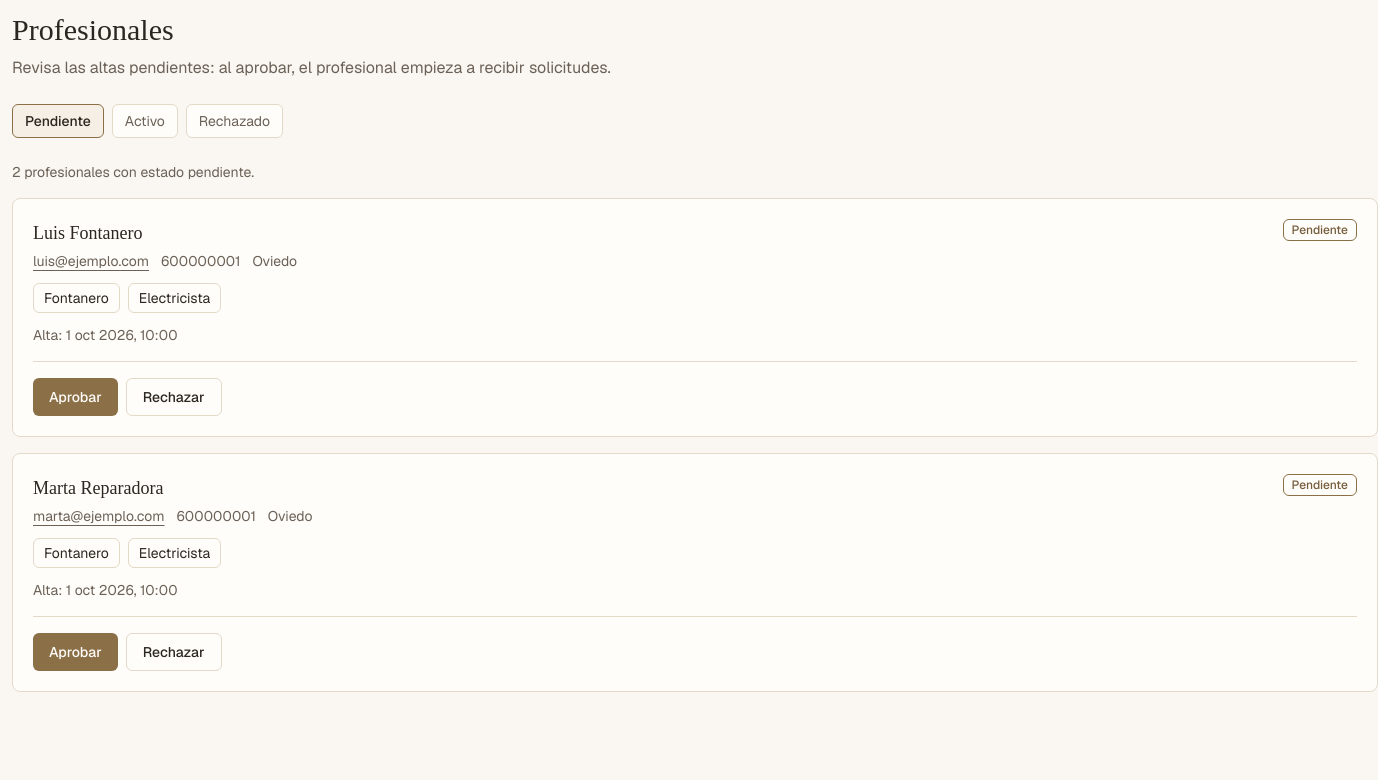
Test: PanelProfesionales › al_moderar_con_exito_la_fila_abandona_la_pestana_y_el_contador_no_la_cuenta
Expected: the heading "Luis Fontanero" is shown, top-left (33, 223), bottom-right (142, 243)
Expected: the text "2 profesionales con estado pendiente." is shown, top-left (12, 163), bottom-right (254, 181)
Click the button "Aprobar" below "Luis Fontanero" at (75, 397), box top-left (33, 378), bottom-right (118, 416)
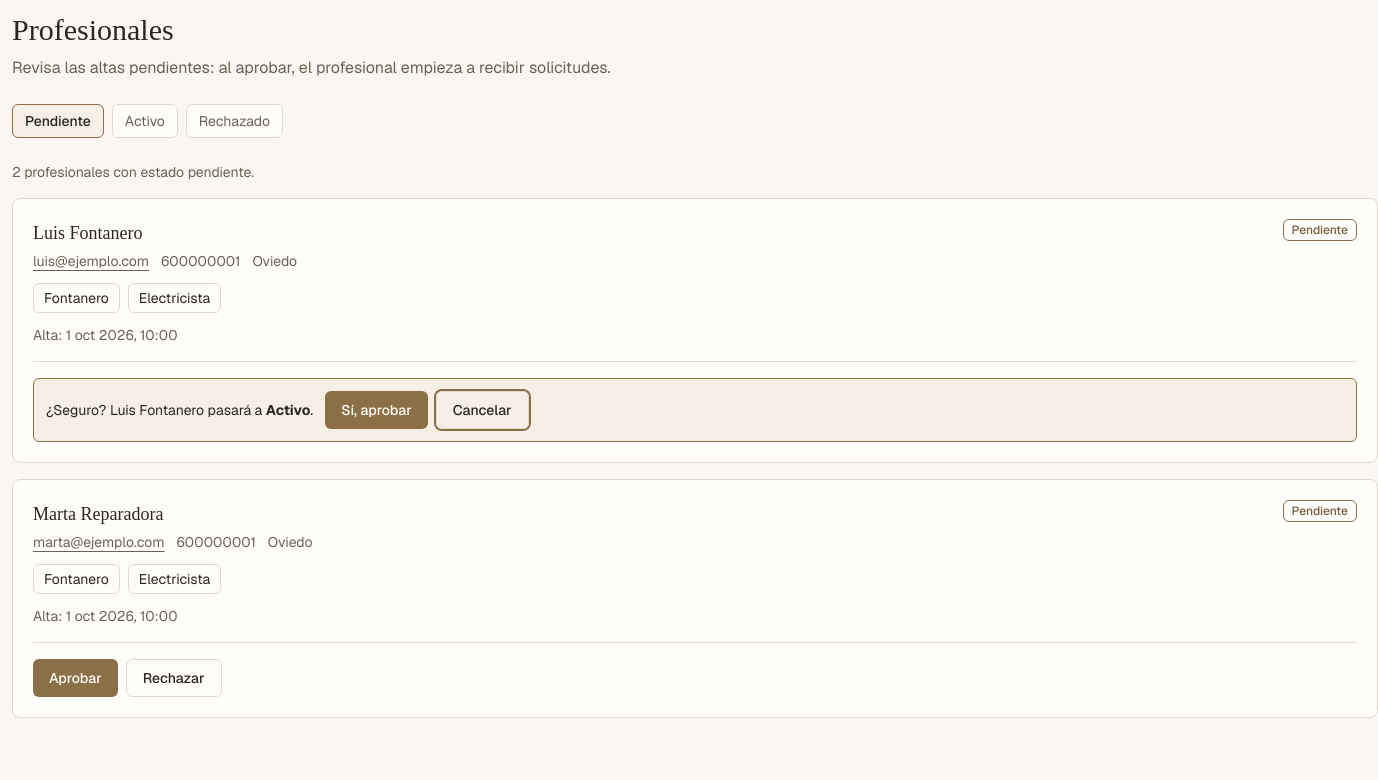
Click the button "Sí, aprobar" at (376, 410), box top-left (325, 391), bottom-right (428, 429)
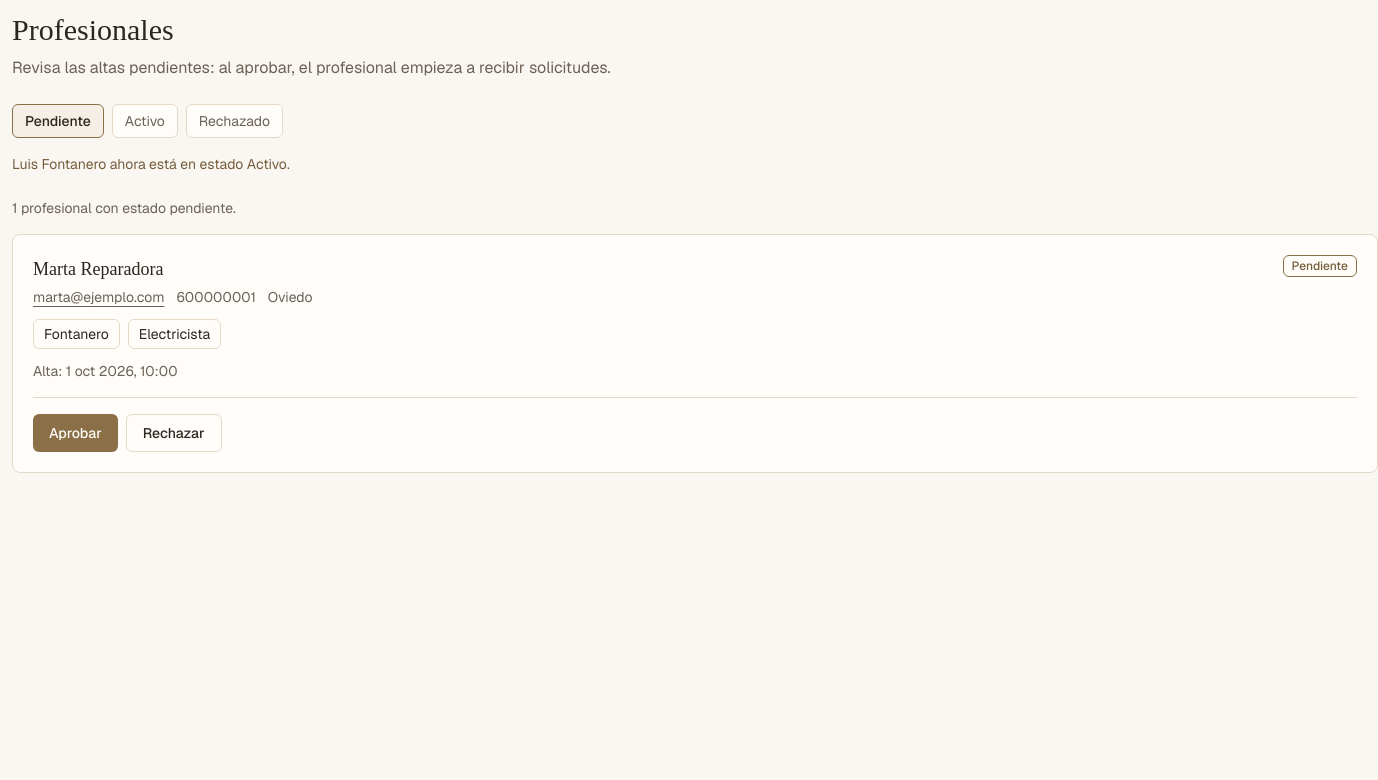
Expected: the heading "Marta Reparadora" is shown, top-left (33, 259), bottom-right (163, 279)
Now the text "Luis Fontanero ahora está en estado Activo." is shown, box top-left (12, 155), bottom-right (290, 173)
Now the text "1 profesional con estado pendiente." is shown, box top-left (12, 199), bottom-right (236, 217)
